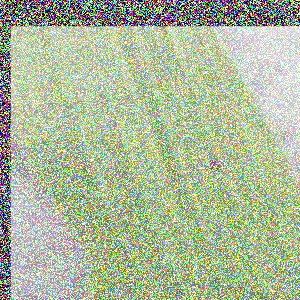Bacterial_Leaf_Blight: (197, 155, 229, 177), (78, 160, 96, 171), (104, 104, 122, 115), (218, 112, 232, 125), (223, 140, 240, 150), (166, 168, 181, 178), (84, 124, 97, 134)
